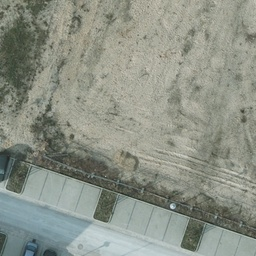car: (1, 152, 11, 181), (22, 240, 39, 256)
